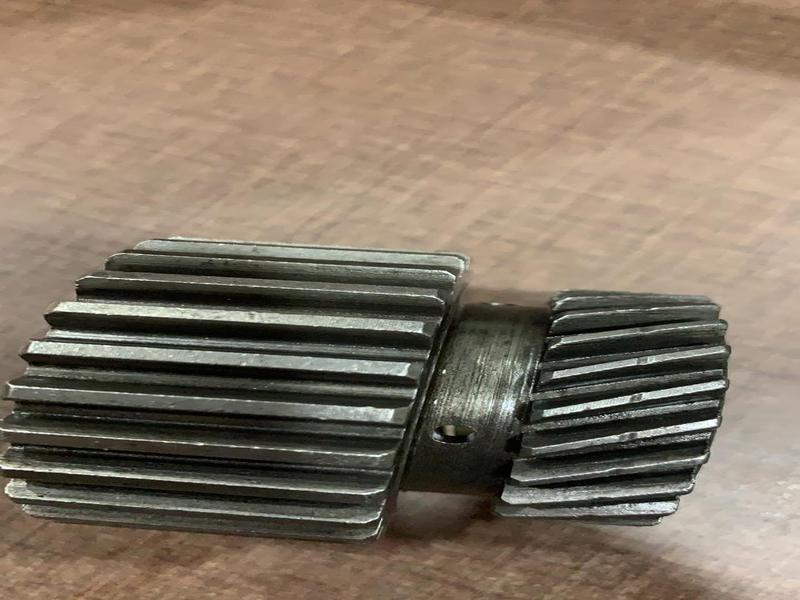engine gear ape: (24, 223, 733, 549)
